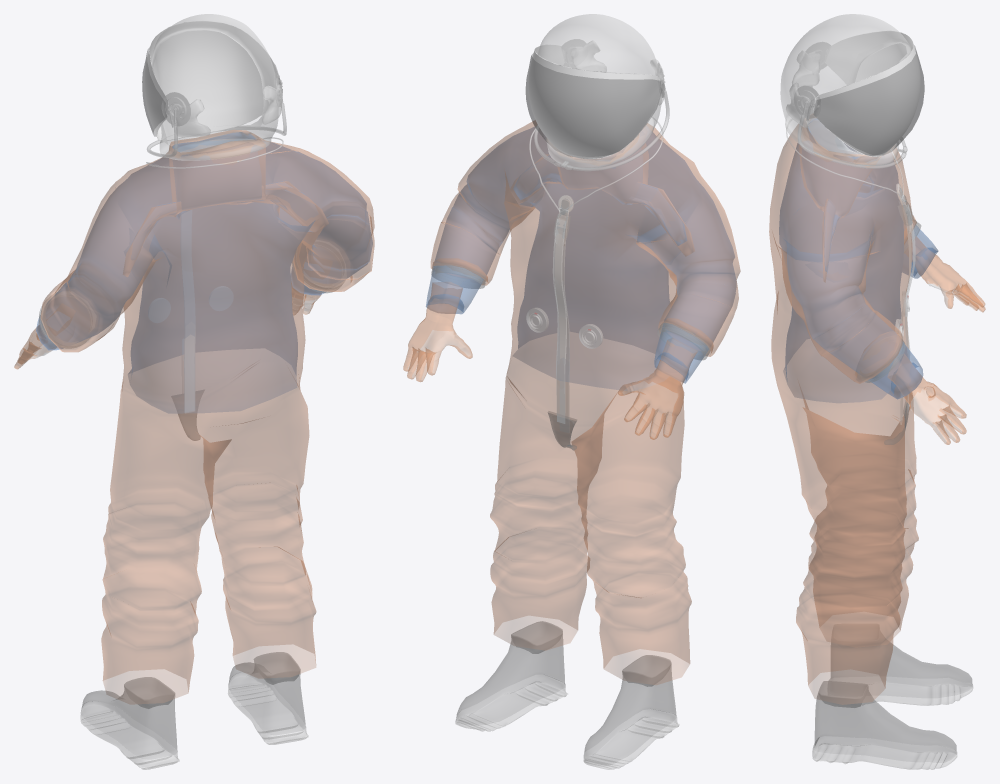
File: advanced-crew-escape-suit.glb
3 views of the same model, side by side, from view 1: azimuth 30°, elevation 25°; view 2: azimuth 150°, elevation 25°; view 3: azimuth 270°, elevation 25° (orthographic). The views are drawn at different scales.
Parts seen in each view (by area): view 1: Advanced Crew Escape Suit; view 2: Advanced Crew Escape Suit; view 3: Advanced Crew Escape Suit.
Part boxes in pixels (x1,y1,x2,y2): Advanced Crew Escape Suit: [14, 14, 374, 769]; Advanced Crew Escape Suit: [403, 14, 740, 769]; Advanced Crew Escape Suit: [769, 14, 985, 769].
Bounding box in the file's own units: 0.8871 × 2 × 0.5548.
